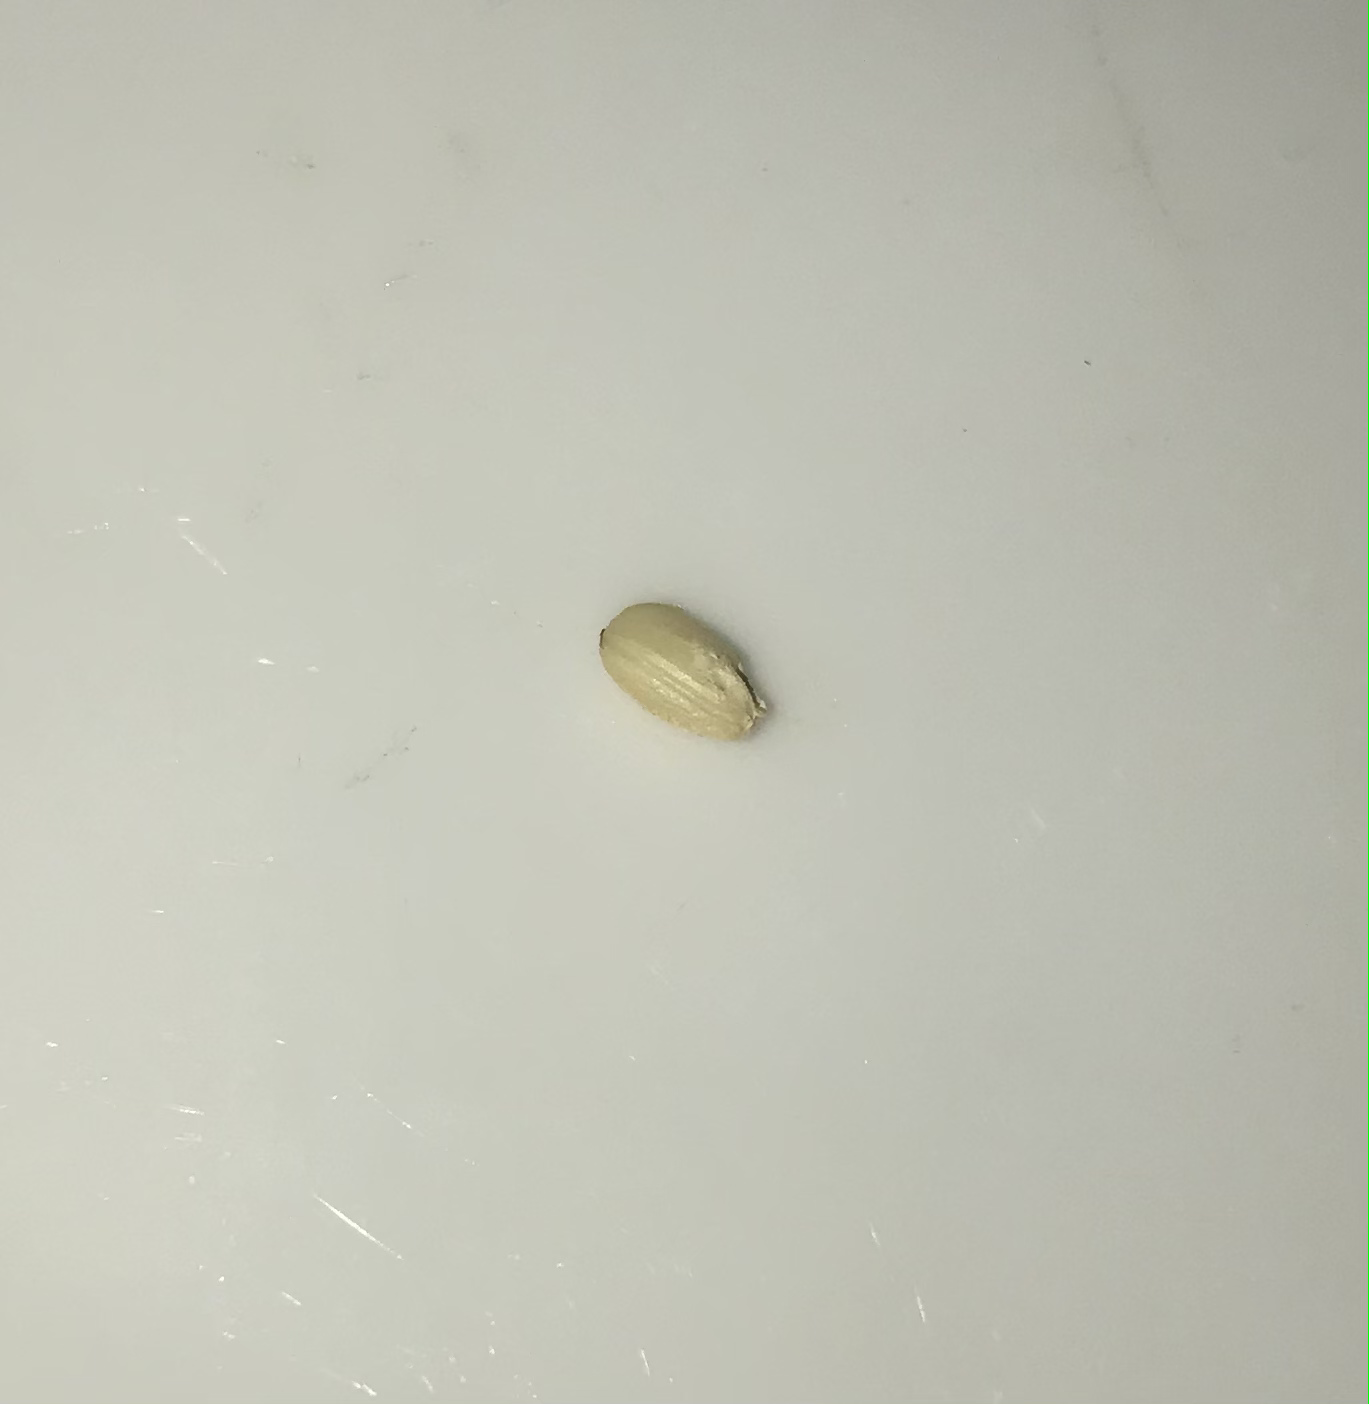Gao Lut Bac: (592, 580, 774, 782)
